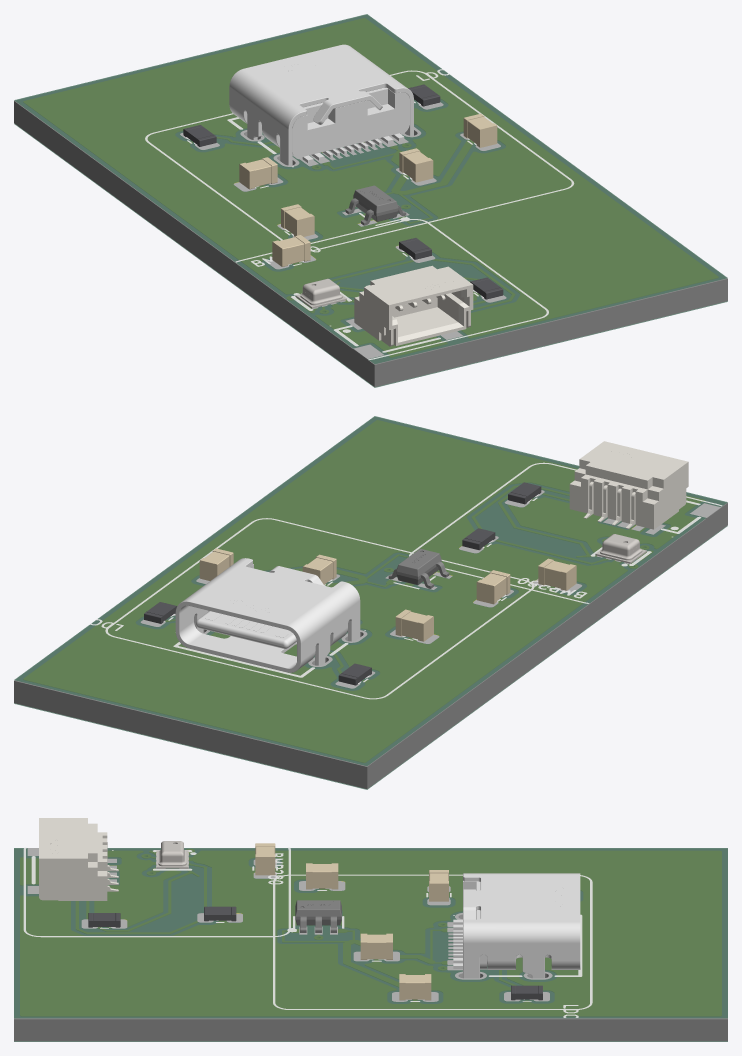
File: board.glb
3 renders of one model, top to bottom at view 1: azimuth 30°, elevation 25°; view 2: azimuth 150°, elevation 25°; view 3: azimuth 270°, elevation 25°, orthographic.
Visible parts, largest first — view 1: =>[0:1:1:12], =>[0:1:1:8], =>[0:1:1:14], J1, J2, =>[0:1:1:11], =>[0:1:1:9], U1, =>[0:1:1:13], C4, U2, C5 (+3 smaller); view 2: =>[0:1:1:12], =>[0:1:1:8], =>[0:1:1:14], J1, J2, =>[0:1:1:11], =>[0:1:1:9], U1, =>[0:1:1:13], C5, C4, U2 (+3 smaller); view 3: =>[0:1:1:12], =>[0:1:1:8], =>[0:1:1:14], J1, J2, =>[0:1:1:11], =>[0:1:1:9], U1, C2, C3, C1, U2 (+6 smaller).
Boxes of the visible parts, x1=… form: =>[0:1:1:12]: x1=14, y1=14, x2=727, y2=363; =>[0:1:1:8]: x1=24, y1=18, x2=717, y2=357; =>[0:1:1:14]: x1=14, y1=15, x2=727, y2=386; J1: x1=229, y1=44, x2=413, y2=165; J2: x1=354, y1=265, x2=473, y2=346; =>[0:1:1:11]: x1=145, y1=69, x2=574, y2=359; =>[0:1:1:9]: x1=180, y1=102, x2=506, y2=359; U1: x1=345, y1=185, x2=406, y2=225; =>[0:1:1:13]: x1=14, y1=123, x2=727, y2=387; C4: x1=239, y1=157, x2=277, y2=189; U2: x1=295, y1=278, x2=346, y2=308; C5: x1=272, y1=235, x2=310, y2=266; =>[0:1:1:12]: x1=14, y1=416, x2=727, y2=765; =>[0:1:1:8]: x1=24, y1=420, x2=701, y2=762; =>[0:1:1:14]: x1=14, y1=417, x2=727, y2=788; J1: x1=175, y1=558, x2=360, y2=672; J2: x1=569, y1=441, x2=688, y2=529; =>[0:1:1:11]: x1=90, y1=462, x2=722, y2=699; =>[0:1:1:9]: x1=140, y1=490, x2=720, y2=688; U1: x1=388, y1=548, x2=449, y2=588; =>[0:1:1:13]: x1=14, y1=525, x2=727, y2=789; C5: x1=538, y1=558, x2=576, y2=590; C4: x1=395, y1=609, x2=433, y2=641; U2: x1=595, y1=534, x2=646, y2=563; =>[0:1:1:12]: x1=14, y1=848, x2=727, y2=1018; =>[0:1:1:8]: x1=20, y1=849, x2=721, y2=1015; =>[0:1:1:14]: x1=14, y1=849, x2=727, y2=1041; J1: x1=453, y1=873, x2=580, y2=978; J2: x1=39, y1=818, x2=118, y2=900; =>[0:1:1:11]: x1=23, y1=847, x2=592, y2=1017; =>[0:1:1:9]: x1=27, y1=848, x2=552, y2=1001; U1: x1=295, y1=900, x2=341, y2=932; C2: x1=360, y1=933, x2=392, y2=959; C3: x1=306, y1=863, x2=338, y2=889; C1: x1=399, y1=974, x2=431, y2=1000; U2: x1=156, y1=841, x2=188, y2=868.
Bounding box in the file's own units: 0.0251 × 0.0049 × 0.0444.
